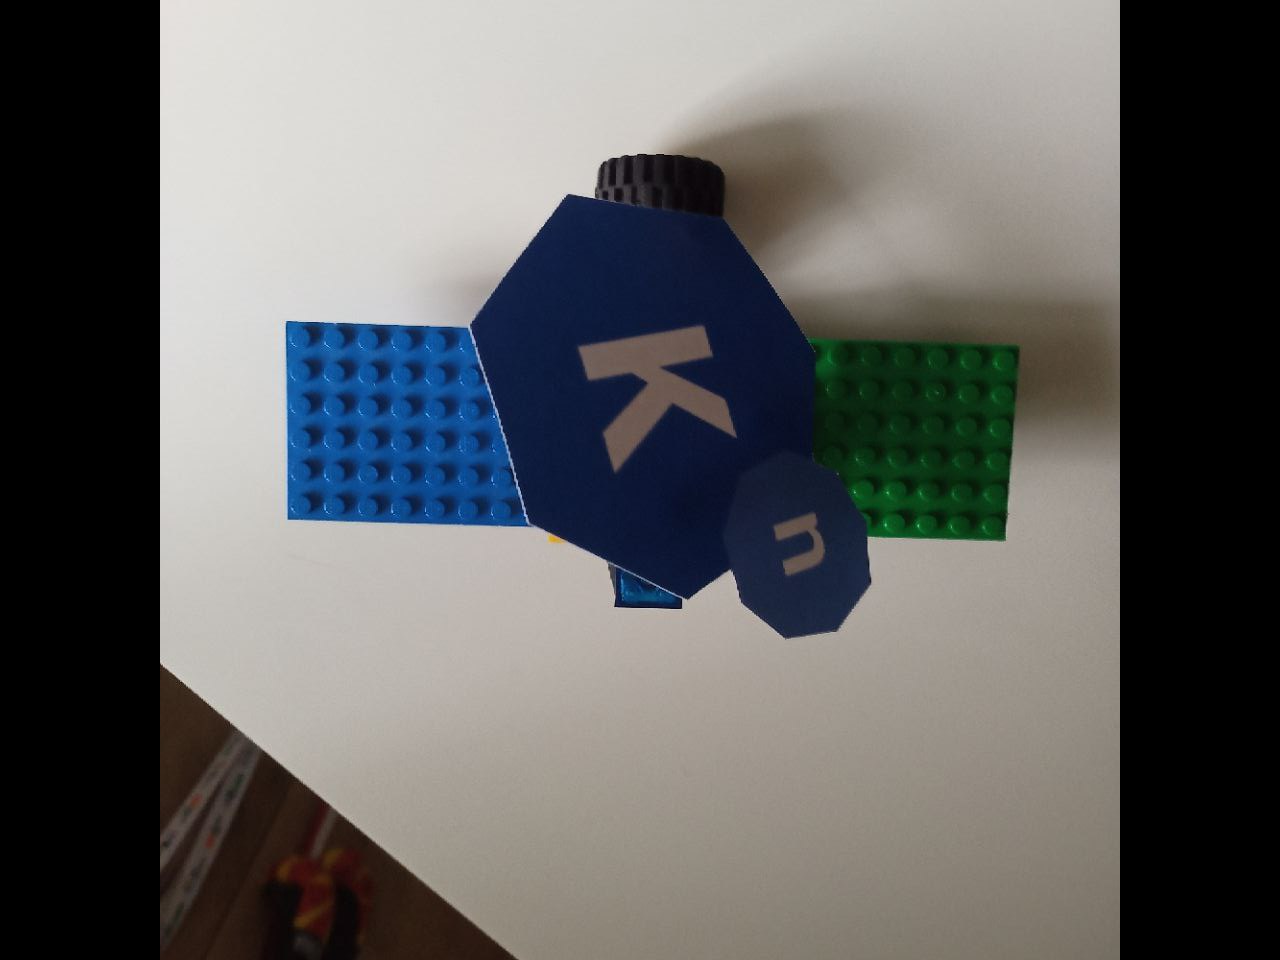knative: (469, 194, 872, 643)
